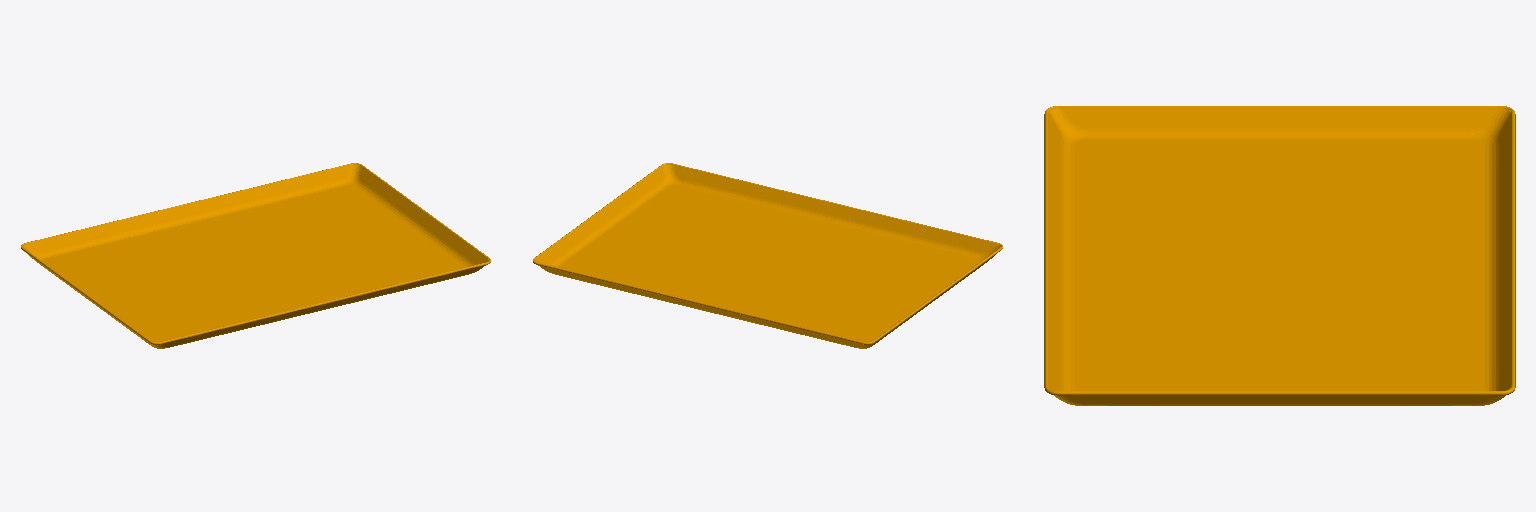
The robot description file, URDF, robot "block":
<?xml version="1.0"?>
<robot name="block">

<link name="tray">

  <collision>
    <origin xyz="0 0 0" rpy="0 0 0"/>
    <geometry>
      <mesh filename="package://ur_description/meshes/Baking_Sheet.stl" scale="0.00075 0.00075 0.00075"/>
    </geometry>
  </collision>

  <visual>
    <origin xyz="0 0 0" rpy="0 0 0"/>
    <geometry>
      <mesh filename="package://ur_description/meshes/Baking_Sheet.stl" scale="0.00075 0.00075 0.00075"/>
    </geometry>
  </visual>

  <inertial>
   <origin xyz="0 0 0" rpy="0 0 0"/>
   <mass value="0.0225" />
   <inertia
      ixx="0.0" ixy="0.0"  ixz="0.0"
      iyy="0.0" iyz="0.0"  izz="0.0" />
  </inertial>
</link>

<gazebo reference="tray">
  <visual>
    <material>
      <ambient>0.55 0.27 0.07 1.0</ambient>
      <diffuse>0.55 0.27 0.07 1.0</diffuse>
      <specular>0 0 0 1.0</specular>
      <emissive>0 0 0 1.0</emissive>
    </material>
  </visual>
  <kp>1000000.0</kp>
  <kd>1.0</kd>
  <mu1>0.8</mu1>
  <mu2>0.8</mu2>
  <maxVel>0.0</maxVel>
  <minDepth>0.001</minDepth>
</gazebo>

</robot>

--- What the picture shows (computed from the rendered views, not written in the file) ---
3 views of the same robot in one strip: view 1: azimuth 30°, elevation 25°; view 2: azimuth 150°, elevation 25°; view 3: azimuth 270°, elevation 25° (orthographic).
Model block with 1 links and 0 joints (none), rooted at tray, posed all joints at 0.
Visible links, largest first — view 1: tray; view 2: tray; view 3: tray.
Link boxes in pixels (x1=…): tray: x1=21, y1=163, x2=490, y2=348; tray: x1=533, y1=163, x2=1002, y2=348; tray: x1=1044, y1=106, x2=1515, y2=405.
Bounding box of the posed robot: 0.4956 × 0.3432 × 0.02 m (x, y, z).
Meshes: 1 distinct files referenced, 1 mesh visuals loaded (1 binary STL).